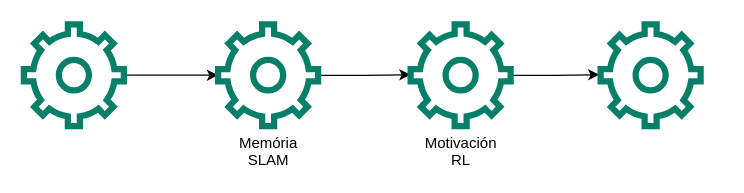
Some shapes in this 744 by 193 pixel diagram are drawn without their labels. Each missing label, with the centre of its shape:
Percepción CNN: (x=73, y=74)
Toma de Decisiones Planificación de Ruta: (x=650, y=74)
